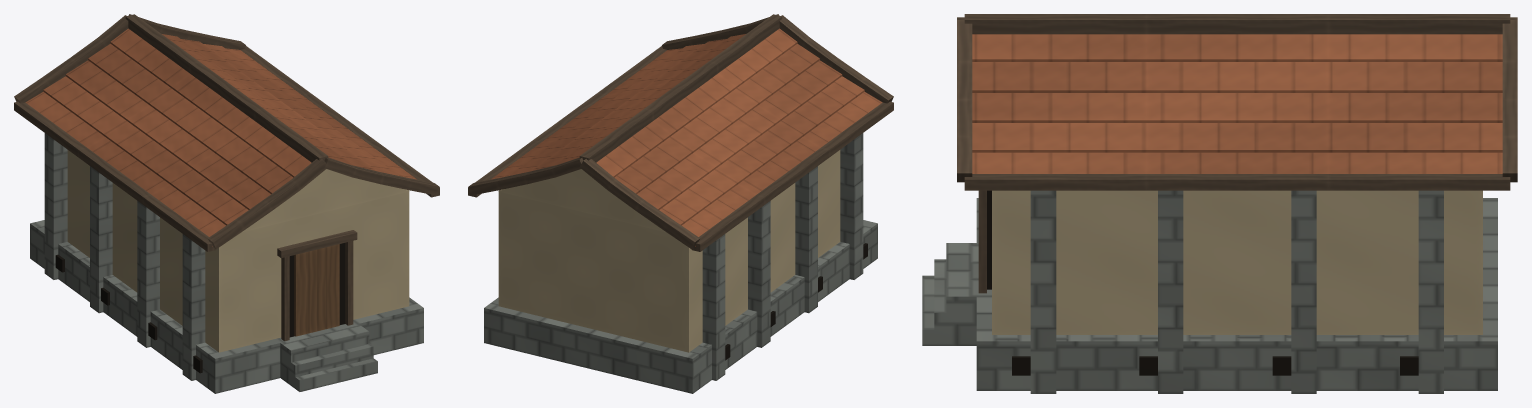
Rendered from roman-granary.glb.
3 renders of one model, left to right at view 1: azimuth 30°, elevation 25°; view 2: azimuth 150°, elevation 25°; view 3: azimuth 270°, elevation 25°, orthographic. The views are drawn at different scales.
Parts seen in each view (by area): view 1: roman-granary; view 2: roman-granary; view 3: roman-granary.
Part boxes in pixels (x1=…): roman-granary: x1=14, y1=14, x2=439, y2=393; roman-granary: x1=468, y1=14, x2=893, y2=393; roman-granary: x1=922, y1=14, x2=1517, y2=393.
Size of the model in its own units: 0.5453 by 0.4814 by 0.86.
Materials: 1 (1 with a texture image).
